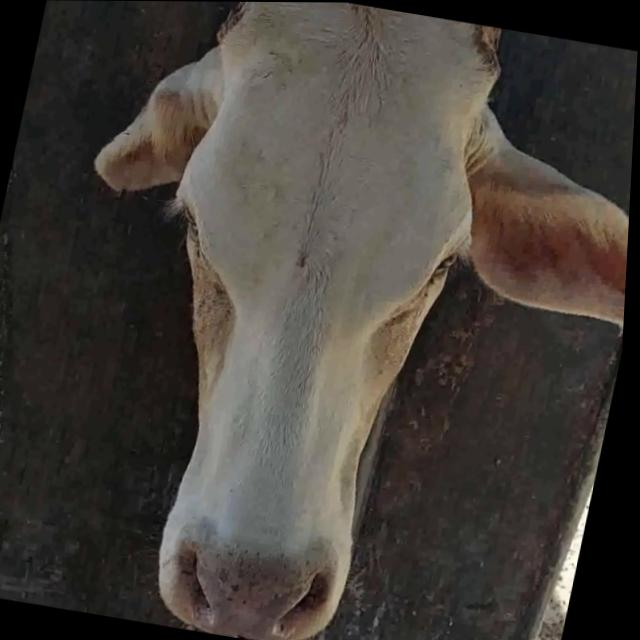cowFace: (98, 1, 504, 640)
